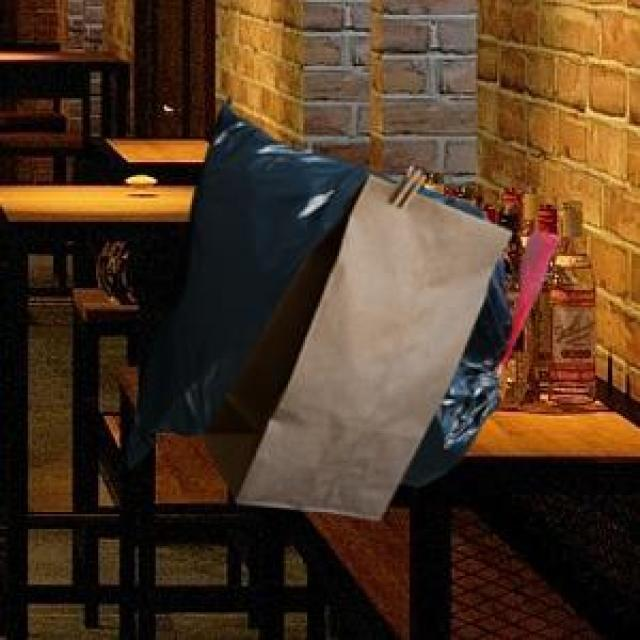miscellaneous trash: (124, 94, 555, 482)
paper: (198, 162, 508, 516)
